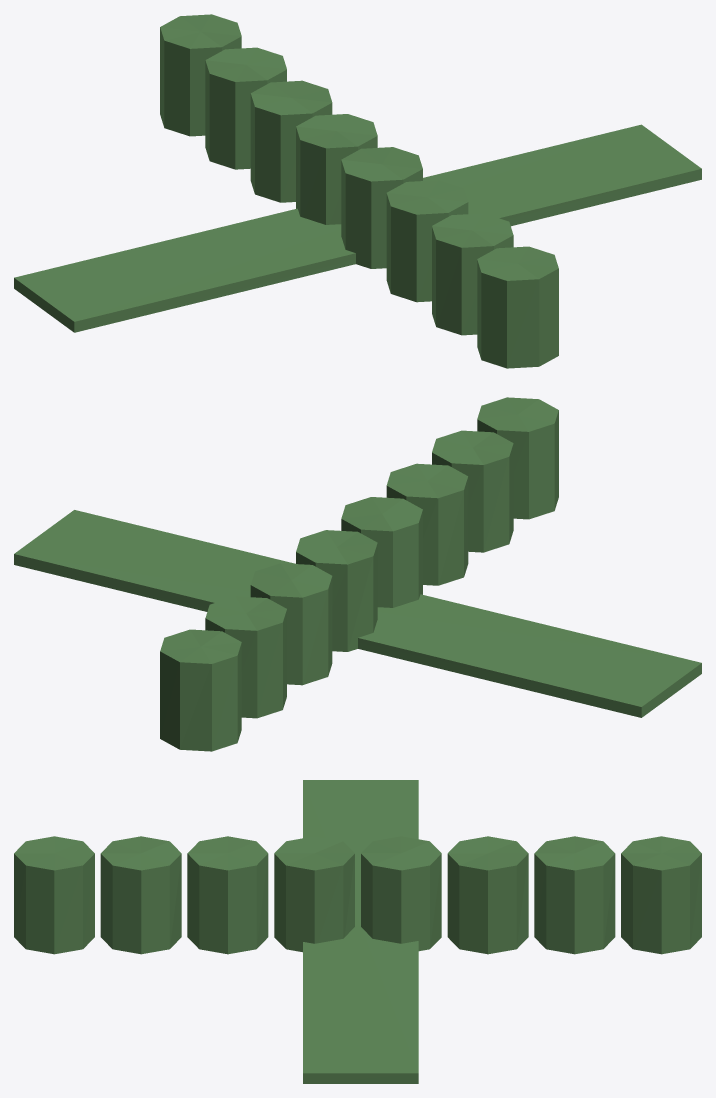
File: Hedgerow.glb
The picture shows the model from 3 angles, top to bottom: view 1: azimuth 30°, elevation 25°; view 2: azimuth 150°, elevation 25°; view 3: azimuth 270°, elevation 25°; orthographic projection. The views are drawn at different scales.
Parts seen in each view (by area): view 1: hedgerow-static-hedgerow-leaf, hedgerow-static-hedgerow-earth; view 2: hedgerow-static-hedgerow-leaf, hedgerow-static-hedgerow-earth; view 3: hedgerow-static-hedgerow-leaf, hedgerow-static-hedgerow-earth.
Part boxes in pixels (<box>): hedgerow-static-hedgerow-leaf: <box>160,14,558,368</box>; hedgerow-static-hedgerow-earth: <box>14,124,701,332</box>; hedgerow-static-hedgerow-leaf: <box>160,397,558,751</box>; hedgerow-static-hedgerow-earth: <box>14,510,701,717</box>; hedgerow-static-hedgerow-leaf: <box>14,836,701,954</box>; hedgerow-static-hedgerow-earth: <box>303,780,418,1083</box>.
Bounding box in the file's own units: 6 × 0.8 × 5.95.
